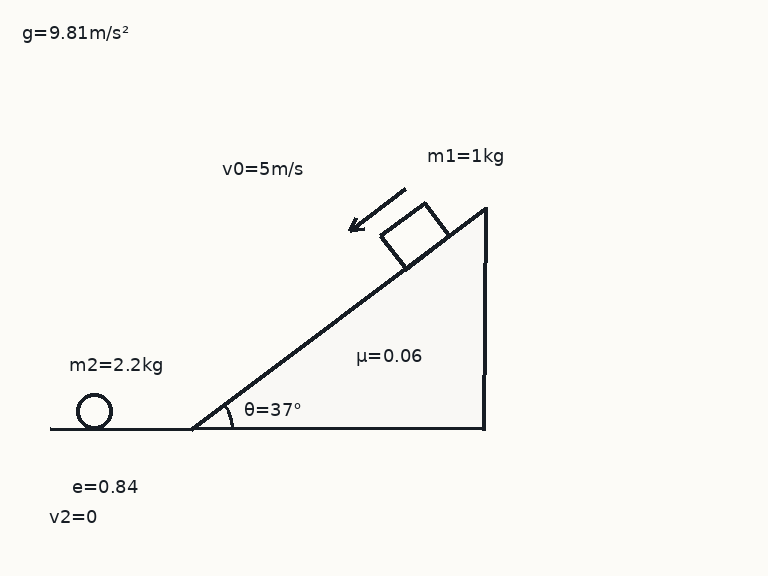ball: (74, 391, 114, 431)
block: (378, 201, 451, 271)
ramp: (190, 207, 486, 431)
